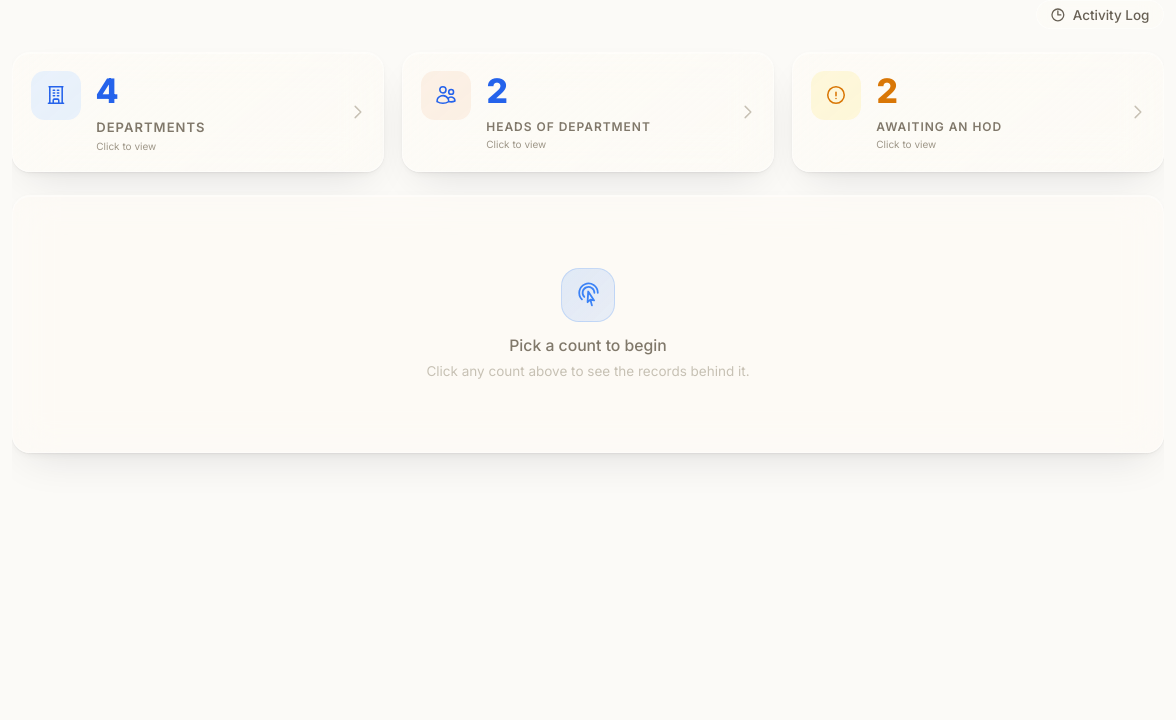
Test: AdminPanel â€” Awaiting an HOD › closes the form again when the same button is clicked
Click the button "2 Awaiting an HOD Click to view" at (836, 95), box [792,52,1164,172]
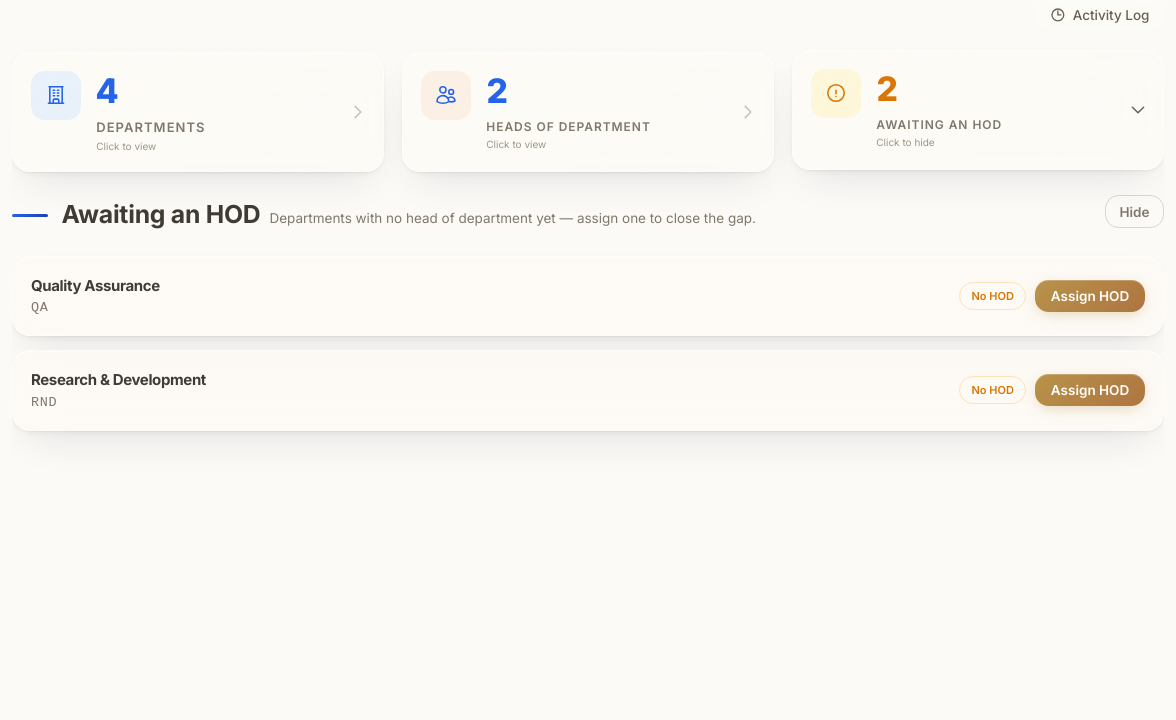
Click the button with aria-label "assign a head of department to Quality Assurance" at (1090, 296), box [1035,280,1145,312]
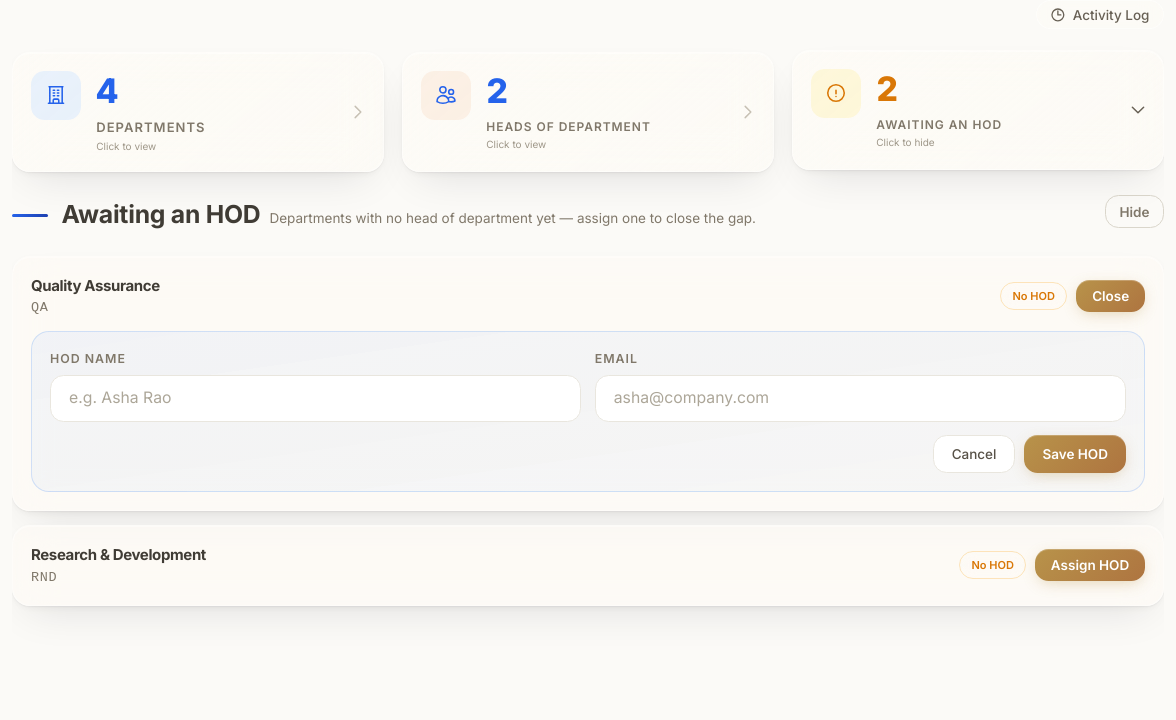
Now the field labelled "HOD Name" is shown, box [50,374,581,422]
Click the button with aria-label "assign a head of department to Quality Assurance" at (1111, 296), box [1076,280,1145,312]
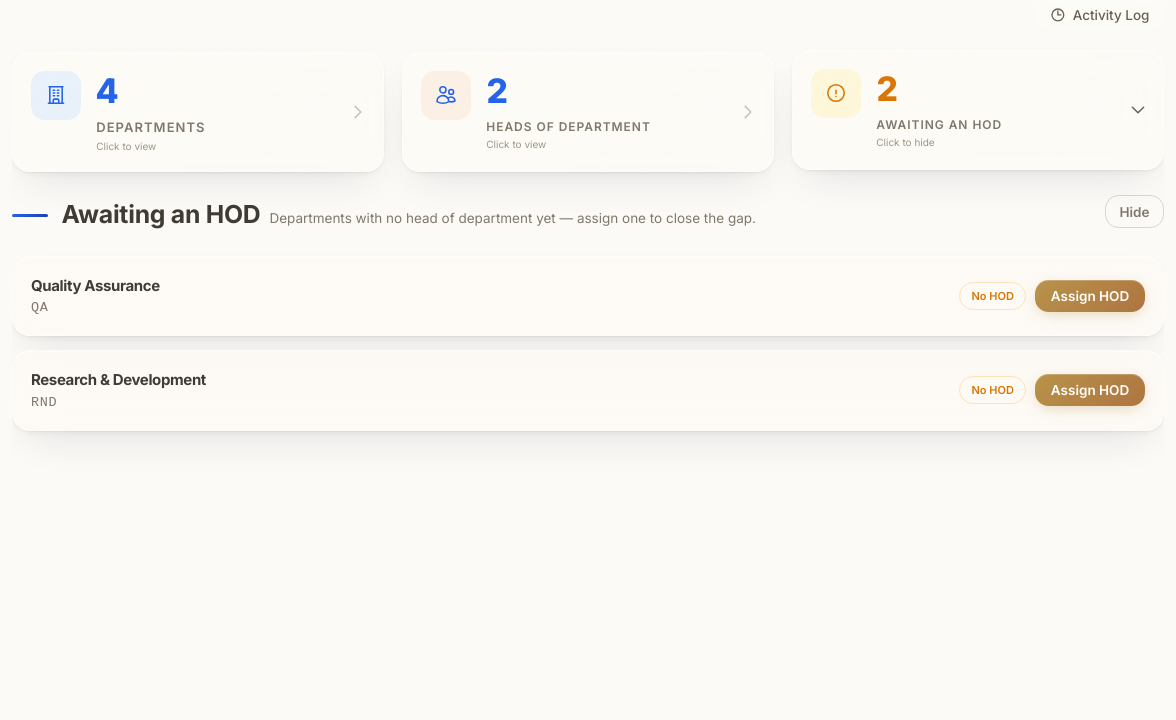
Now the label labelled "HOD Name" is gone
